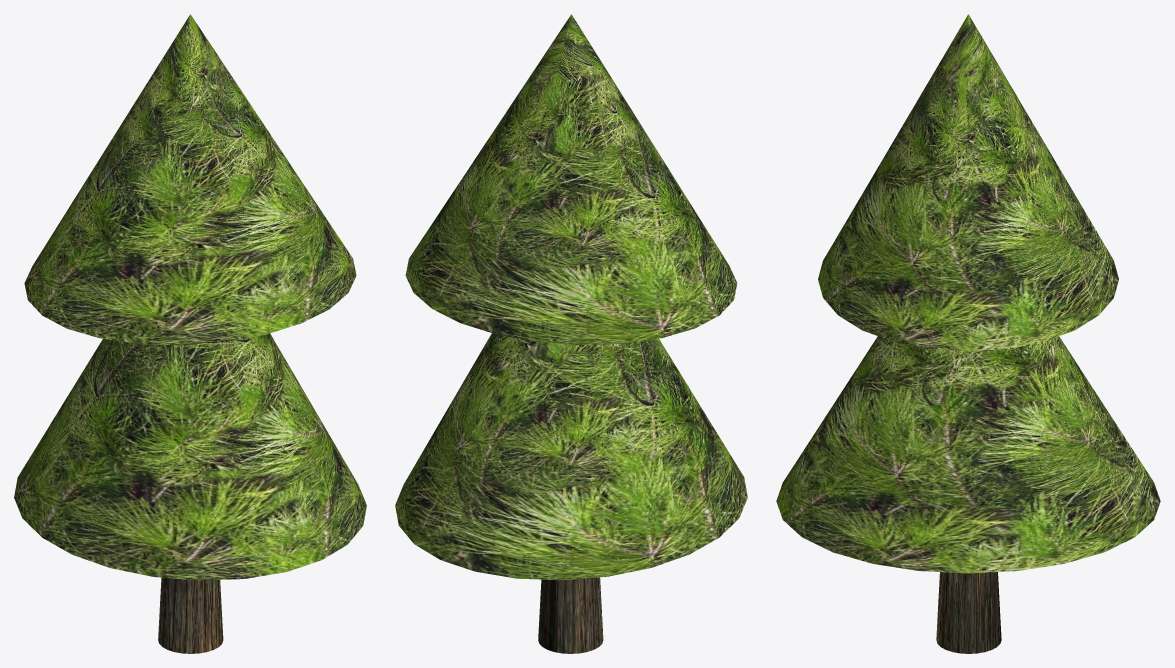
3 views of the same model, side by side, from view 1: azimuth 30°, elevation 25°; view 2: azimuth 150°, elevation 25°; view 3: azimuth 270°, elevation 25° (orthographic).
Parts seen in each view (by area): view 1: Cone003, Cone002, Cone001; view 2: Cone003, Cone002, Cone001; view 3: Cone003, Cone002, Cone001.
Part boxes in pixels (<box>): Cone003: <box>14,333,366,580</box>; Cone002: <box>24,14,356,345</box>; Cone001: <box>158,577,223,653</box>; Cone003: <box>395,333,747,580</box>; Cone002: <box>405,14,737,344</box>; Cone001: <box>538,577,603,653</box>; Cone003: <box>776,336,1160,573</box>; Cone002: <box>818,14,1118,351</box>; Cone001: <box>936,572,1001,653</box>.
Size of the model in its own units: 30.78 by 62.16 by 34.6.
Materials: 2 (2 with a texture image).
